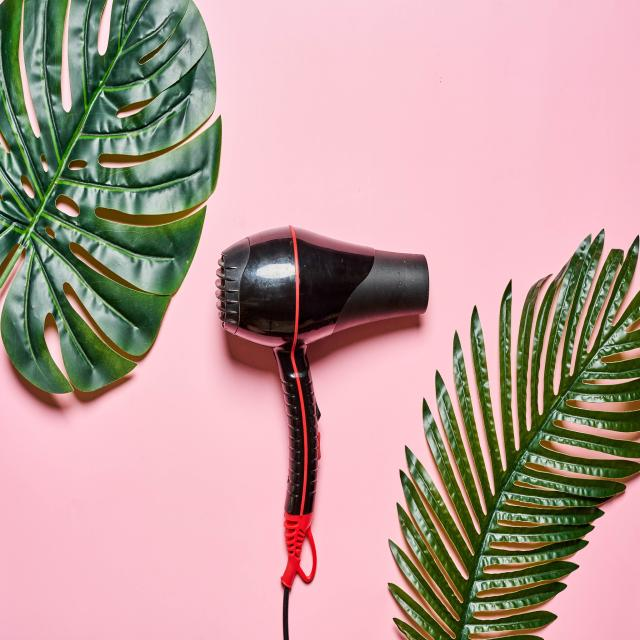dryer: (214, 222, 430, 591)
